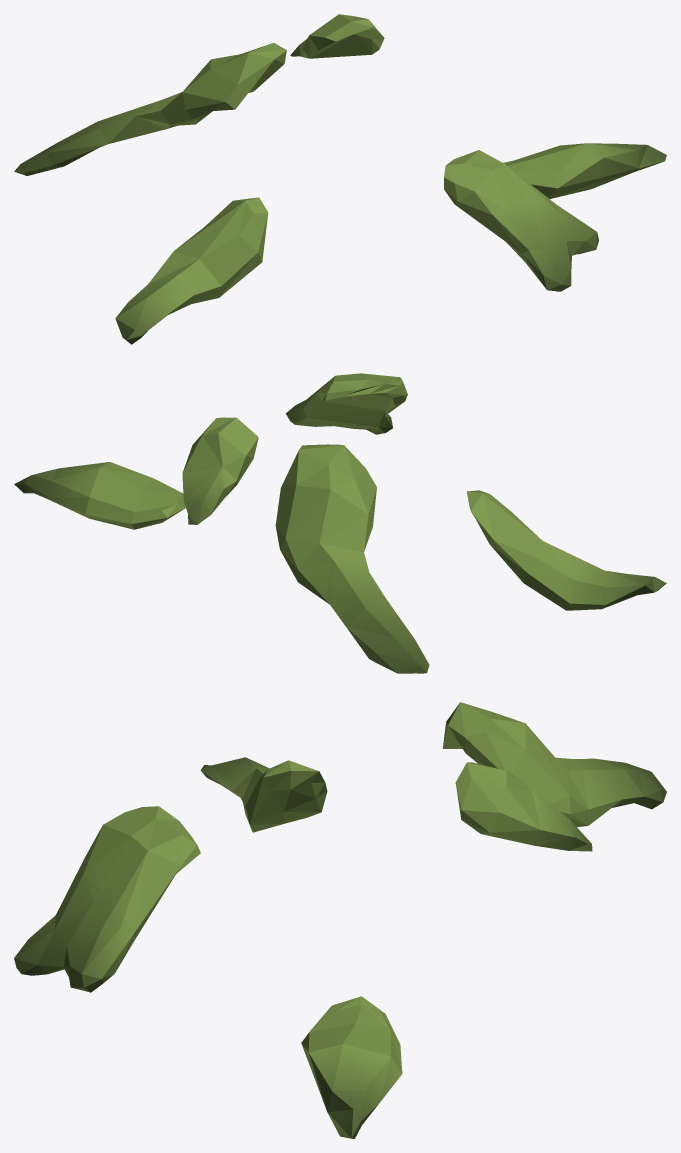
File: Jungle_Roots_A_Grass.fbx
The picture shows the model from 3 angles, top to bottom: view 1: azimuth 30°, elevation 25°; view 2: azimuth 150°, elevation 25°; view 3: azimuth 270°, elevation 25°; orthographic projection. The views are drawn at different scales.
Parts seen in each view (by area): view 1: Jungle_Roots_A_Grass; view 2: Jungle_Roots_A_Grass; view 3: Jungle_Roots_A_Grass.
Boxes of the visible parts, <box> form: Jungle_Roots_A_Grass: <box>14,14,666,344</box>; Jungle_Roots_A_Grass: <box>14,373,666,673</box>; Jungle_Roots_A_Grass: <box>14,702,666,1138</box>.
Bounding box in the file's own units: 4.51 × 1.26 × 3.37.
Materials: 1 (1 with a texture image).
